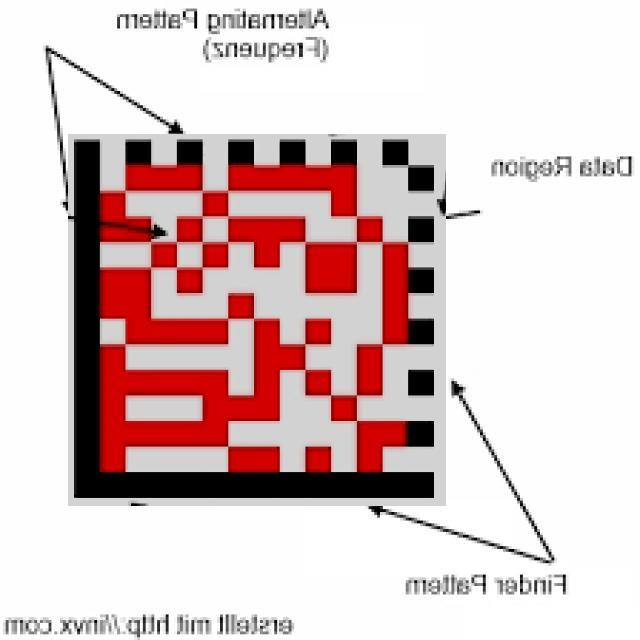Data-Matrix: (68, 134, 446, 506)
